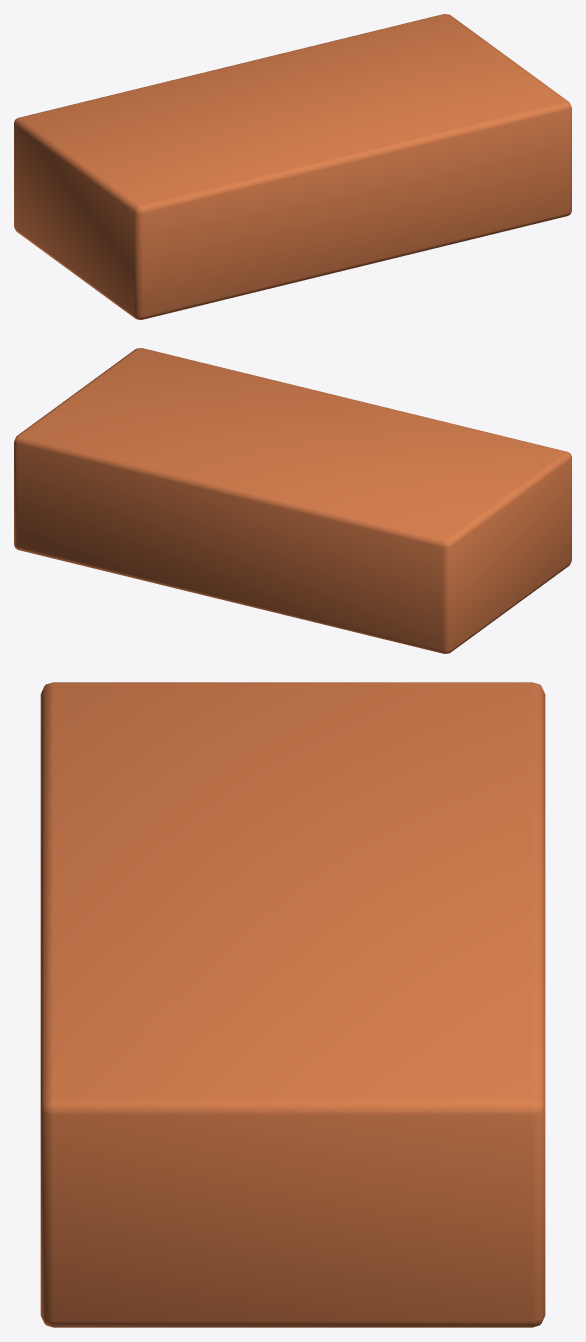
File: PLF0110135.fbx
3 views of the same model, one above another, from view 1: azimuth 30°, elevation 25°; view 2: azimuth 150°, elevation 25°; view 3: azimuth 270°, elevation 25° (orthographic). The views are drawn at different scales.
Parts seen in each view (by area): view 1: smPLF0110135; view 2: smPLF0110135; view 3: smPLF0110135.
Part boxes in pixels (x1=…): smPLF0110135: x1=14, y1=14, x2=571, y2=319; smPLF0110135: x1=14, y1=348, x2=571, y2=653; smPLF0110135: x1=40, y1=682, x2=545, y2=1327.
Bounding box in the file's own units: 507 × 127 × 253.
